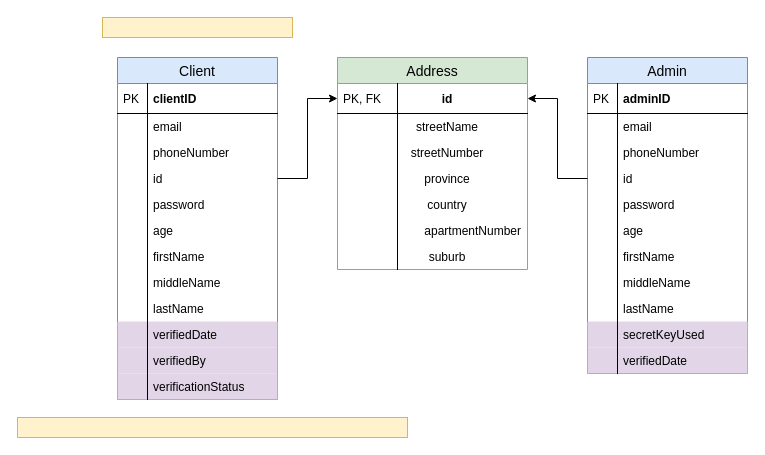
The diagram is 765 pixels wide and 455 high, and some of its shapes have lost their labels. The shapes that lost their labels are listed below. From the top down, each one's centre as x and y in pixels, then its label:
the point at 197,27: Stores verified & unverified users
the point at 212,427: Also stores the users verificationDate, verifiedBy and verificationStatus
